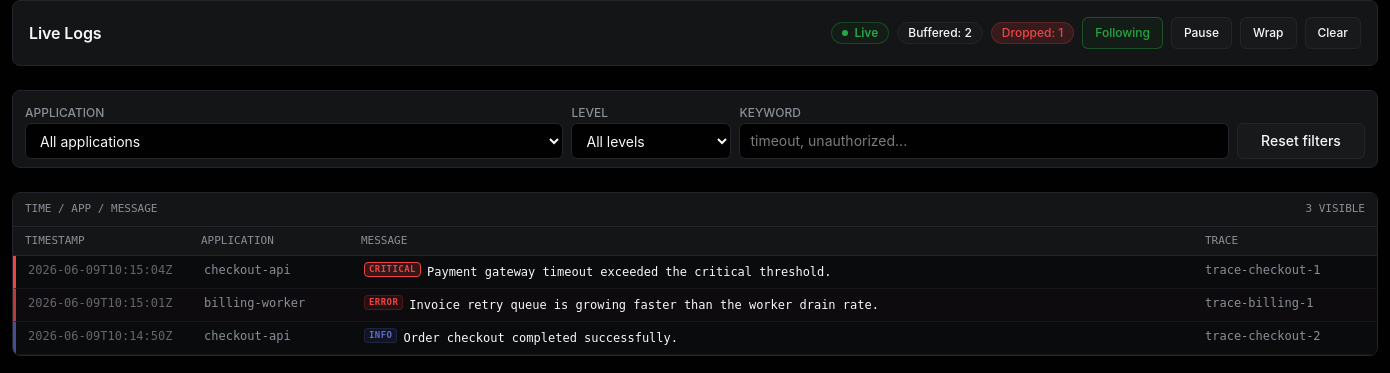
Test case: LiveLogsPage › filters by application, level, and keyword
Expected: the text "Payment gateway timeout exceeded the critical threshold." is shown, [427, 262, 832, 282]
Select "billing-worker" in the dropdown labelled "Application" at x=294, y=141, box [25, 123, 564, 159]
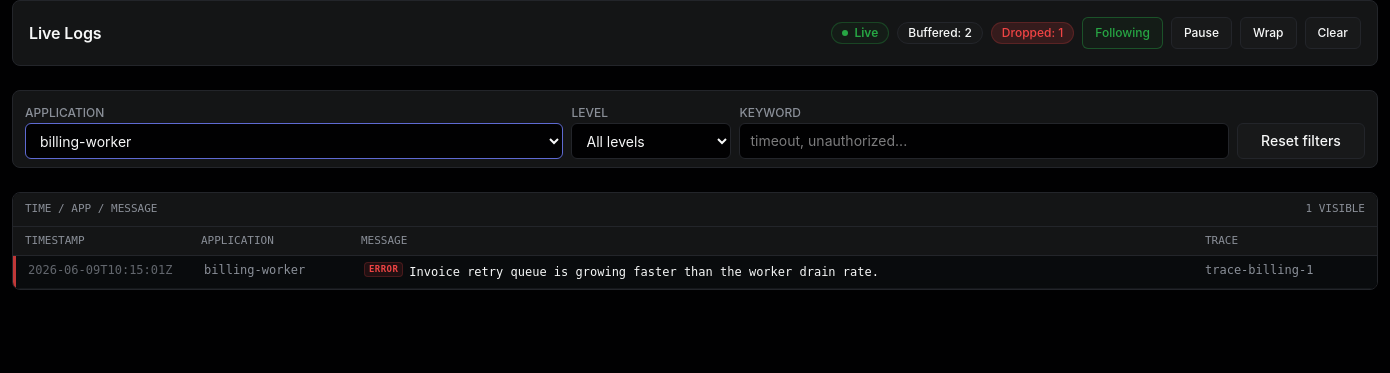
Expected: the text "Invoice retry queue is growing faster than the worker drain rate." is shown, [409, 262, 879, 282]
Result: the text "Payment gateway timeout exceeded the critical threshold." is gone
Select "All applications" in the dropdown labelled "Application" at x=294, y=141, box [25, 123, 564, 159]
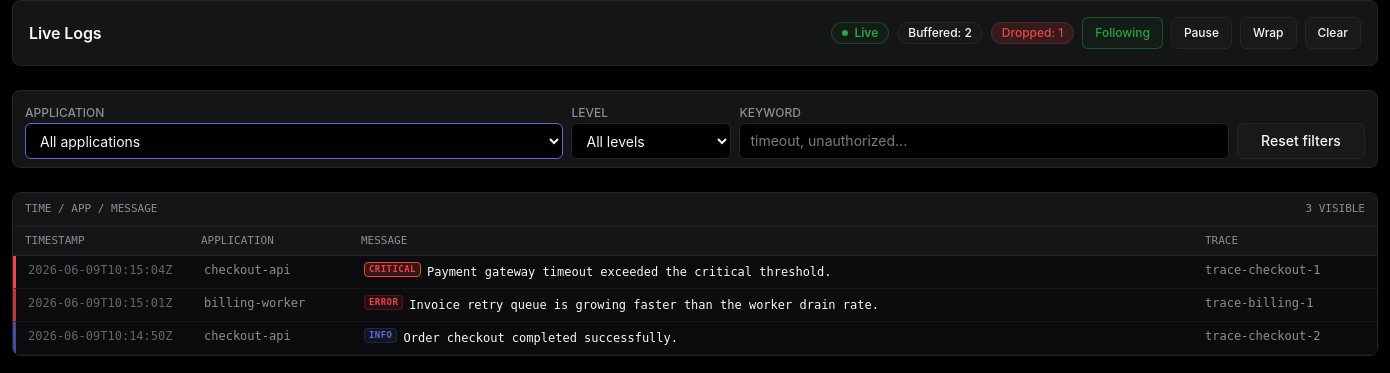
Select "CRITICAL" in the dropdown labelled "Level" at x=652, y=141, box [572, 123, 732, 159]
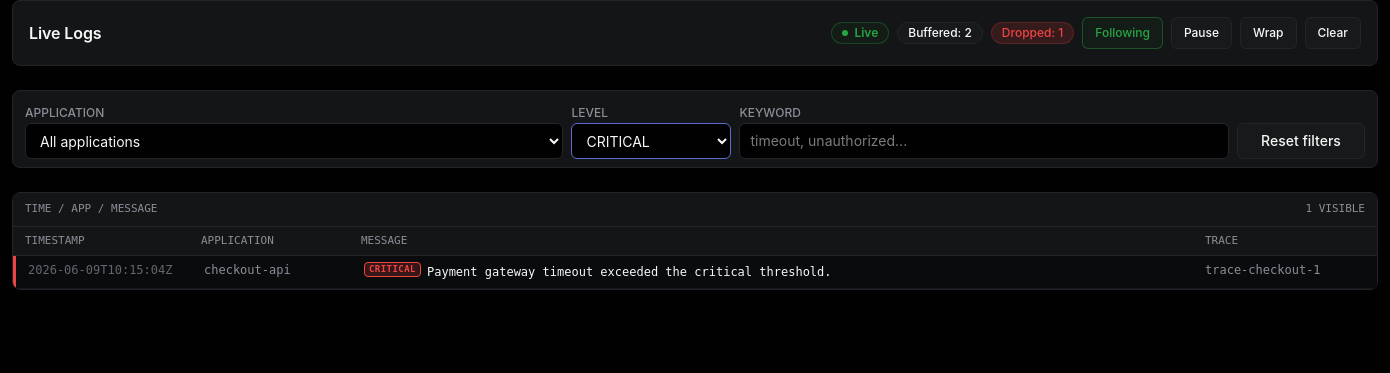
Result: the text "Payment gateway timeout exceeded the critical threshold." is shown at [427, 262, 832, 282]
Result: the text "Invoice retry queue is growing faster than the worker drain rate." is gone
Select "All levels" in the dropdown labelled "Level" at x=652, y=141, box [572, 123, 732, 159]
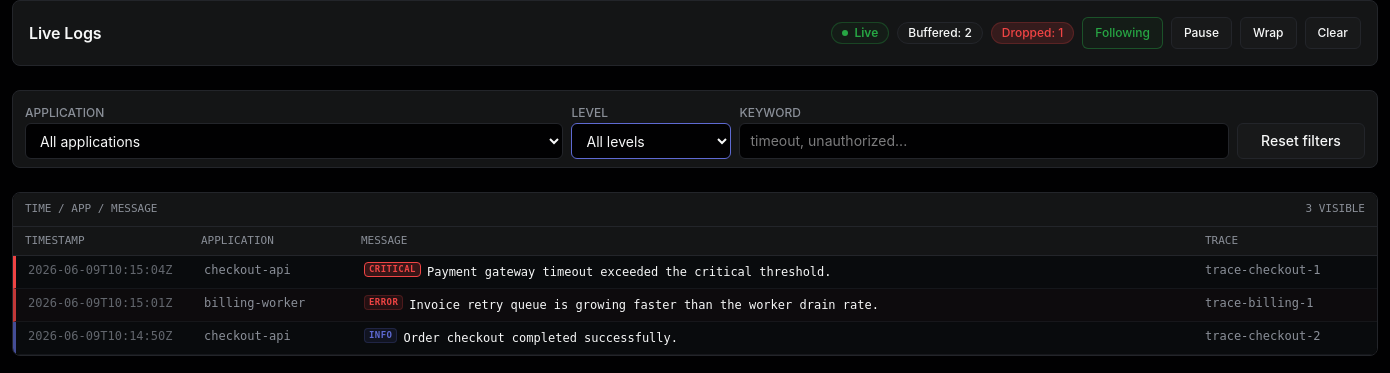
Type "checkout completed" into the field labelled "Keyword" at x=984, y=141, box [740, 123, 1229, 159]
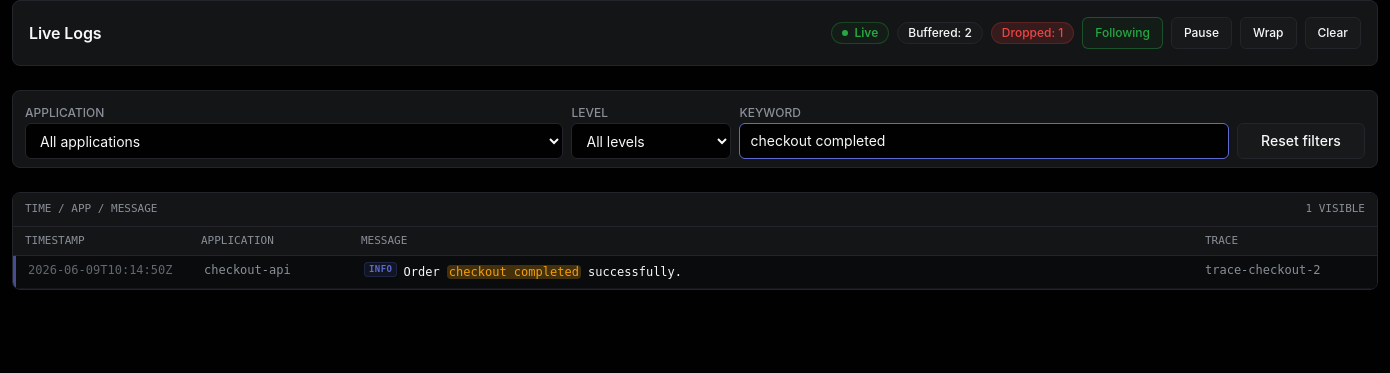
Result: the text "checkout completed" is shown at [447, 265, 581, 279]
Result: the text "Invoice retry queue is growing faster than the worker drain rate." is gone
